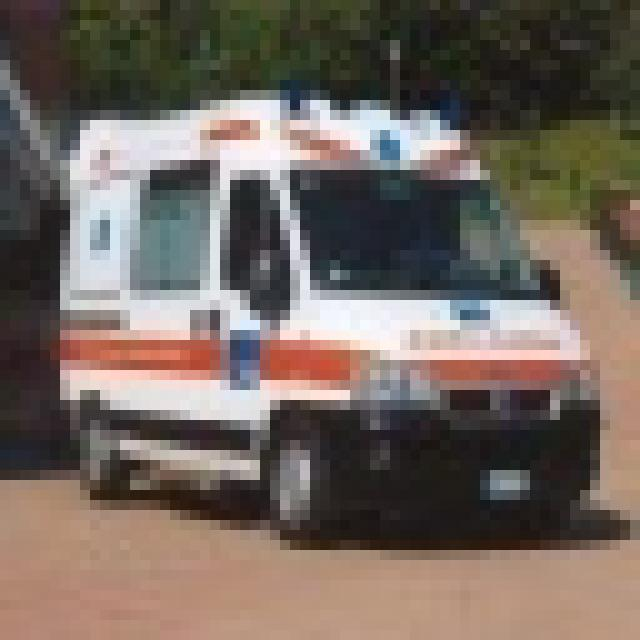Ambulance: (50, 80, 600, 530)
